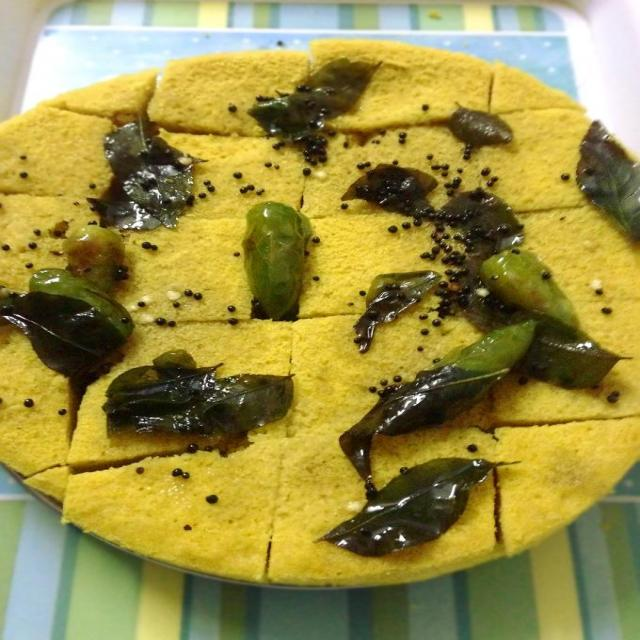dhokla: (33, 69, 607, 610)
